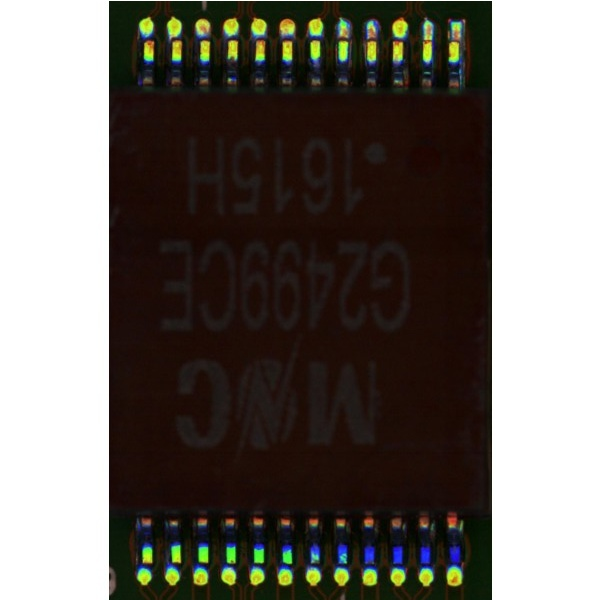Bad_podu: (339, 29, 348, 47), (451, 28, 459, 48), (426, 27, 432, 49), (368, 29, 375, 47)
